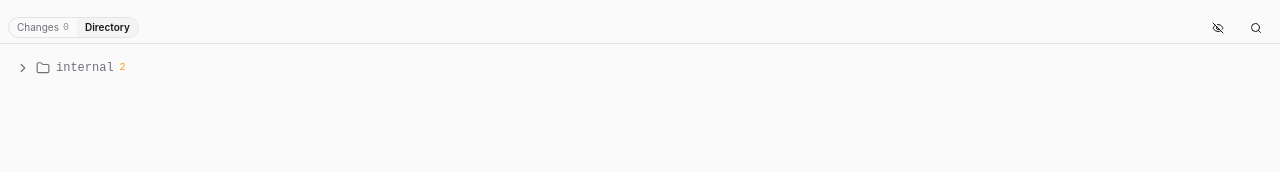
Scenario: 目录模式的 git 状态叠加：目录行子树计数 › counts the whole compacted chain's subtree from its frontier segment
Click the button with aria-label "Expand internal, 2 changed files".
click(85, 68)  # box [16,54,1238,82]
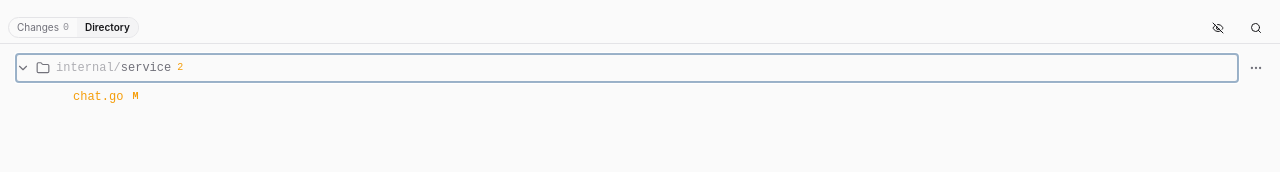
expect the text with test id "dir-subtree-count" reads "2": met, box [177,62,183,73]
expect the text "chat.go" is shown: met, box [73,88,123,104]
